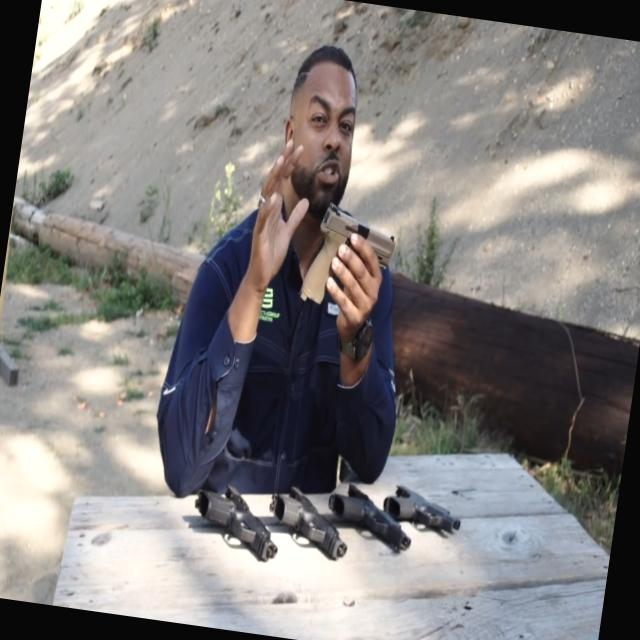handgun: (283, 182, 418, 348), (257, 477, 366, 572), (186, 474, 290, 570), (320, 476, 422, 571), (375, 467, 469, 553)
